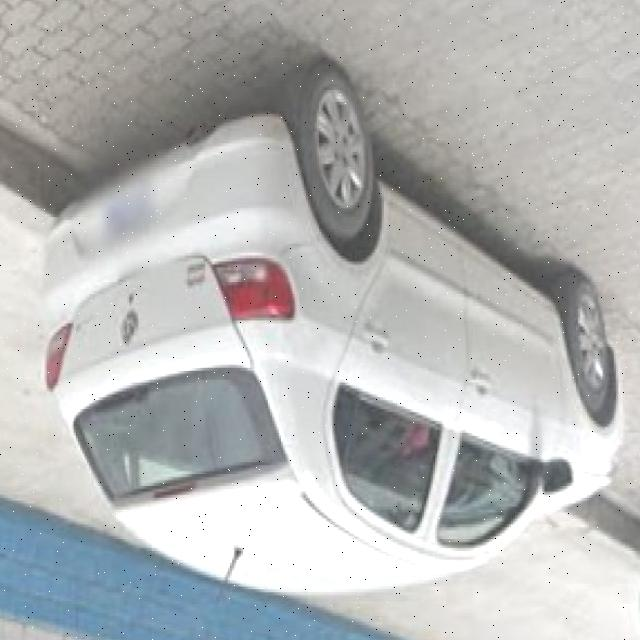car: (46, 73, 621, 604)
